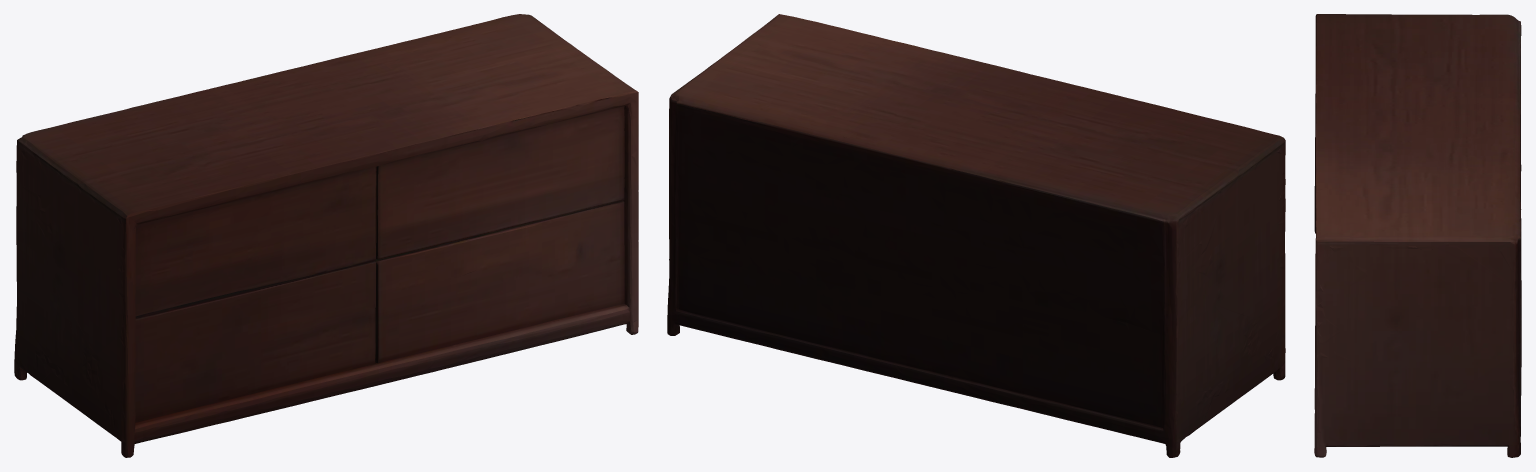
The model's file is ast_95dd6f2a9f1a.glb.
3 views of the same model, side by side, from view 1: azimuth 30°, elevation 25°; view 2: azimuth 150°, elevation 25°; view 3: azimuth 270°, elevation 25° (orthographic). The views are drawn at different scales.
Parts seen in each view (by area): view 1: geometry_0; view 2: geometry_0; view 3: geometry_0.
Part boxes in pixels (x1=…): geometry_0: x1=14, y1=14, x2=638, y2=457; geometry_0: x1=667, y1=14, x2=1285, y2=457; geometry_0: x1=1314, y1=14, x2=1521, y2=457.
Size of the model in its own units: 1 by 0.462 by 0.3876.
1 material, 1 textured.
